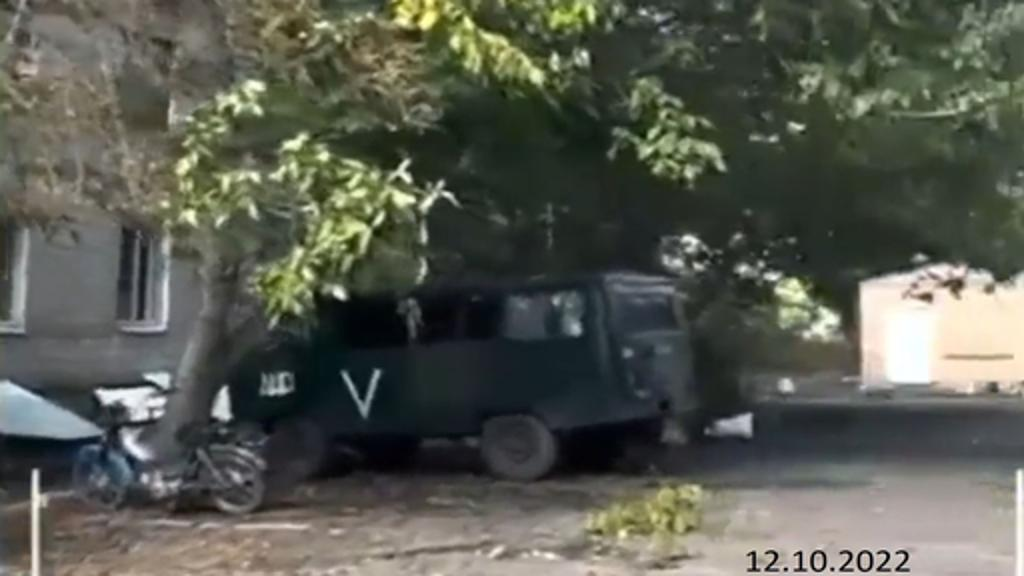CAR: (212, 250, 700, 486)
